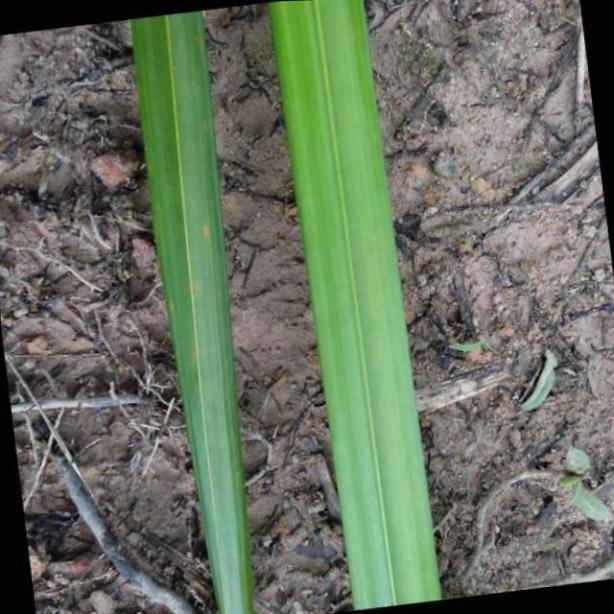nitrogen: (274, 0, 444, 610)
